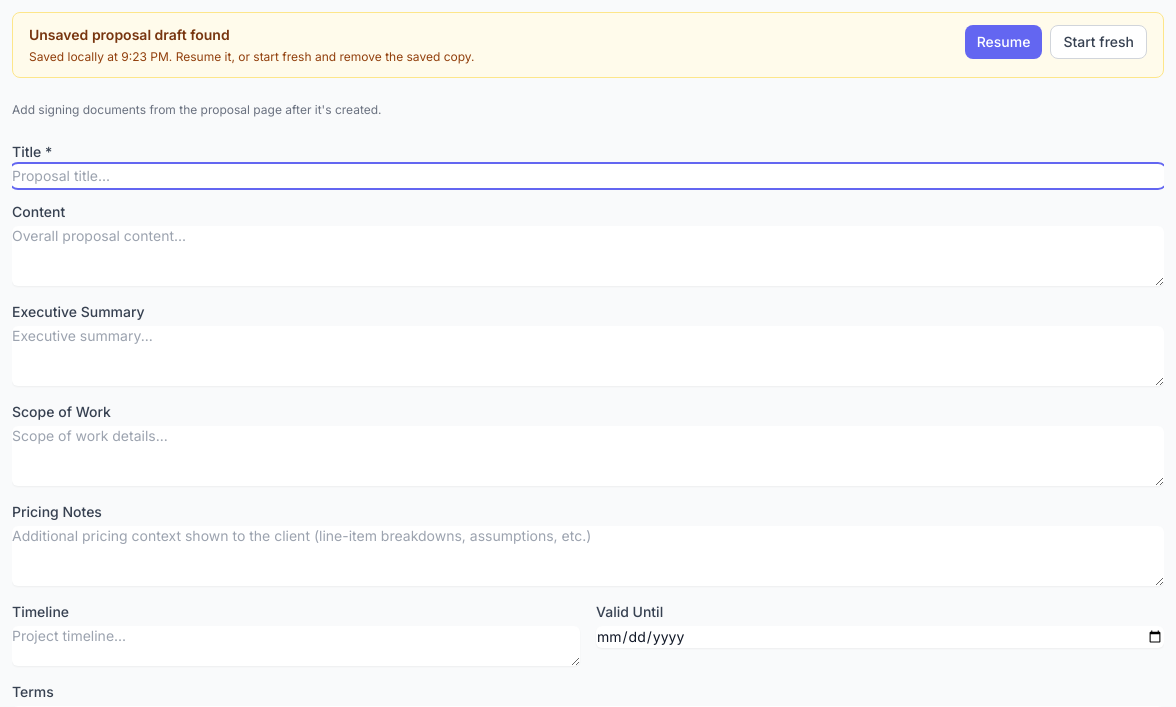
ProposalForm local drafts › prompts before restoring a saved create draft
Expected: the text "Unsaved proposal draft found" is shown, top-left (29, 26), bottom-right (230, 43)
Click the button "Resume".
click(1003, 42)  # box top-left (965, 25), bottom-right (1042, 59)
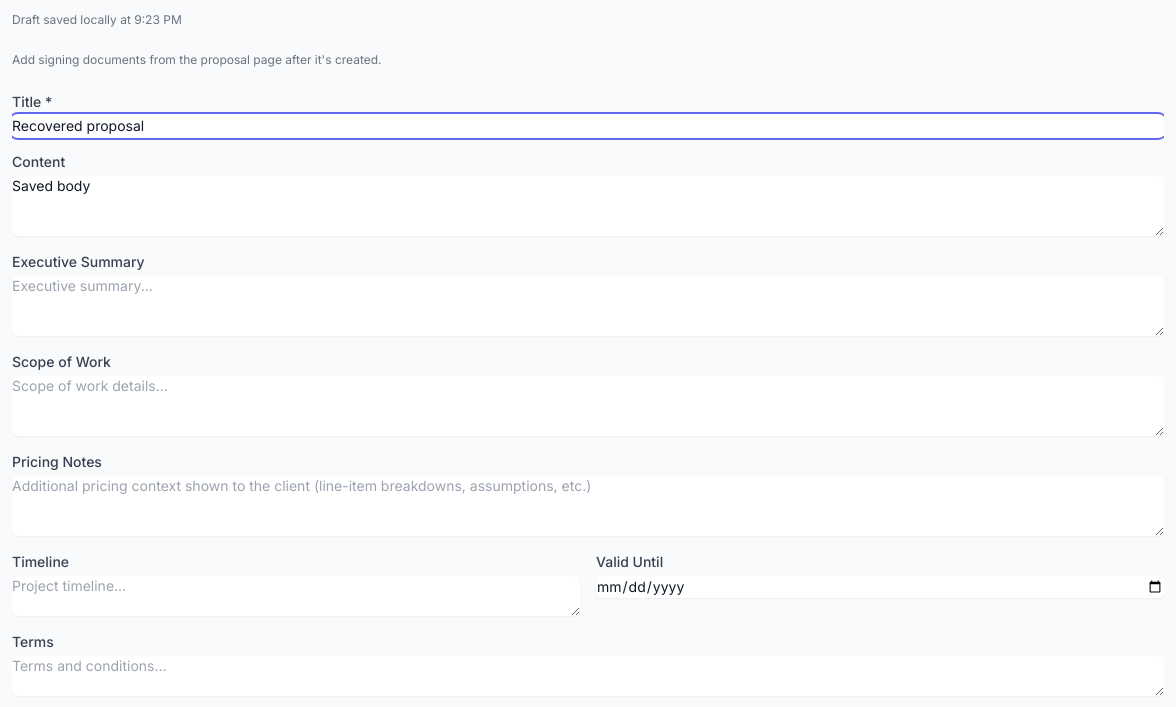
Expected: the field labelled "Title *" holds "Recovered proposal", top-left (12, 116), bottom-right (1164, 136)
Expected: the text box labelled "Content" holds "Saved body", top-left (12, 176), bottom-right (1164, 236)
